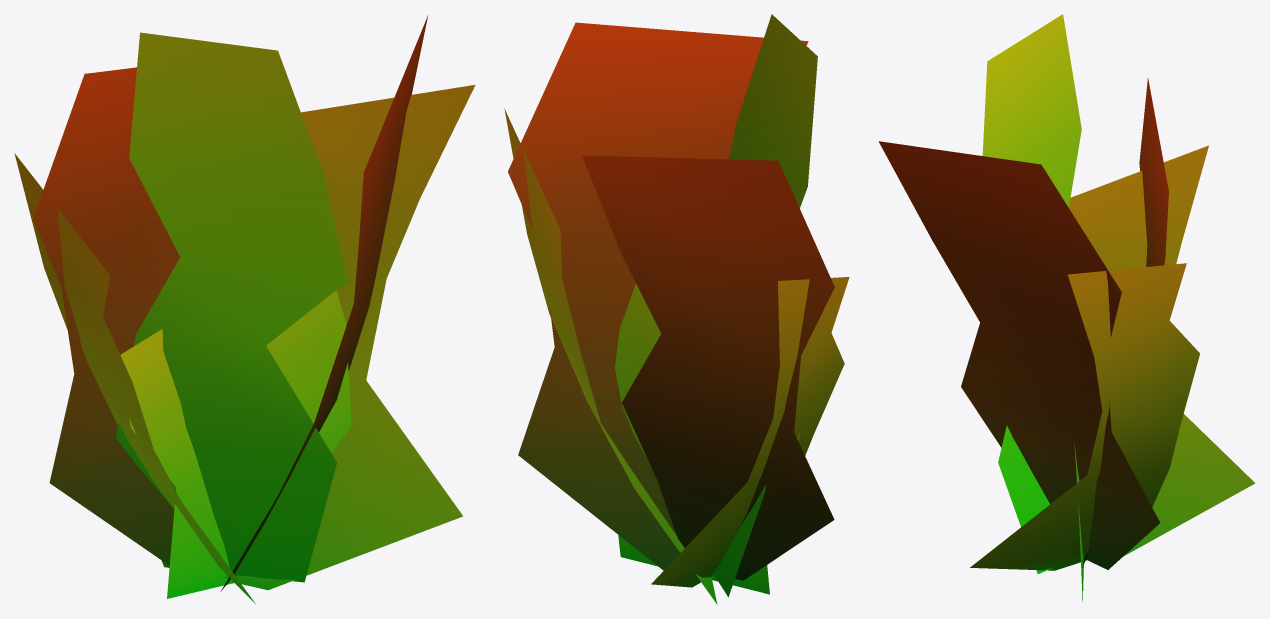
File: Var8Hi30.fbx
3 views of the same model, side by side, from view 1: azimuth 30°, elevation 25°; view 2: azimuth 150°, elevation 25°; view 3: azimuth 270°, elevation 25° (orthographic). The views are drawn at different scales.
Parts seen in each view (by area): view 1: bend1; view 2: bend1; view 3: bend1.
Boxes of the visible parts, box(x1,y1,x2,y2) form: bend1: box(14, 15, 475, 603); bend1: box(504, 14, 849, 604); bend1: box(878, 14, 1255, 601).
Size of the model in its own units: 1.26 by 1.76 by 1.19.
